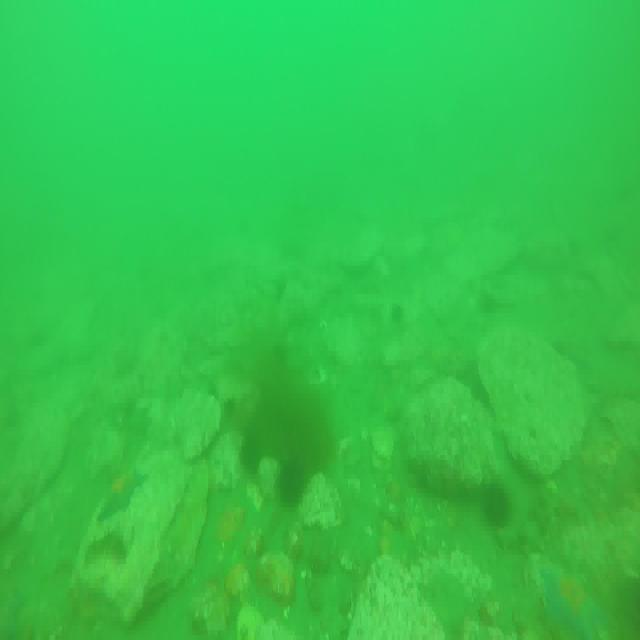echinus: (276, 459, 309, 505), (481, 480, 509, 526), (239, 438, 264, 467), (386, 300, 407, 329)
starfish: (540, 564, 608, 640), (94, 468, 147, 527)
